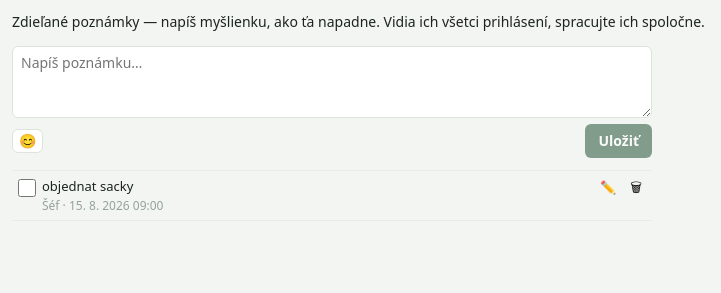
klik na text otvorí úpravu, Enter uloží orezaný text cez updateNoteText a znova načíta zoznam
Click the text with test id "poznamka-body-n-1" at (88, 186), box [42, 177, 133, 195]
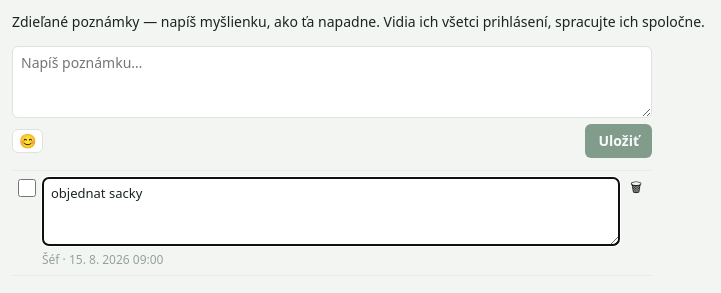
Now the text box with test id "poznamka-edit-input-n-1" holds "objednat sacky"
Replace the text in the text box with test id "poznamka-edit-input-n-1" with "  Objednať sáčky  " at (331, 211), box [42, 177, 620, 246]
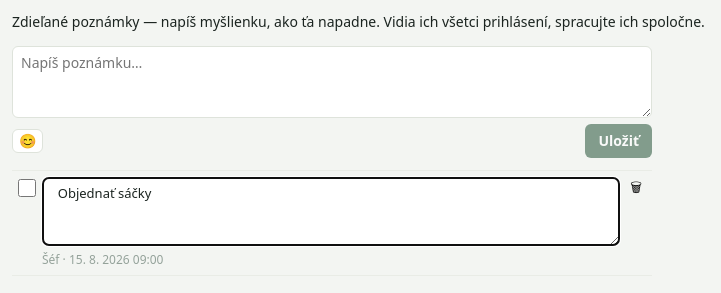
Press Enter in the text box with test id "poznamka-edit-input-n-1", box [42, 177, 620, 246]
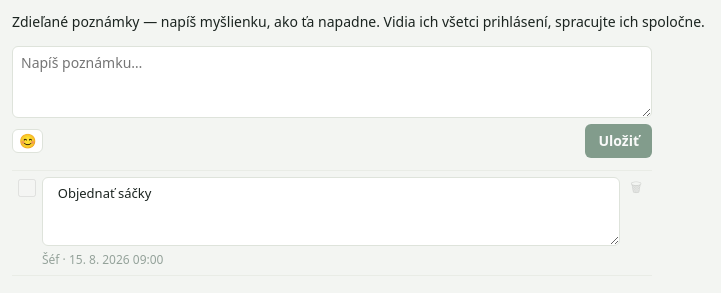
Prehliadač po Enter vystrelí blur (pole sa počas zápisu vypne) — nesmie uložiť druhýkrát.
Leave the text box with test id "poznamka-edit-input-n-1", box [42, 177, 620, 246]
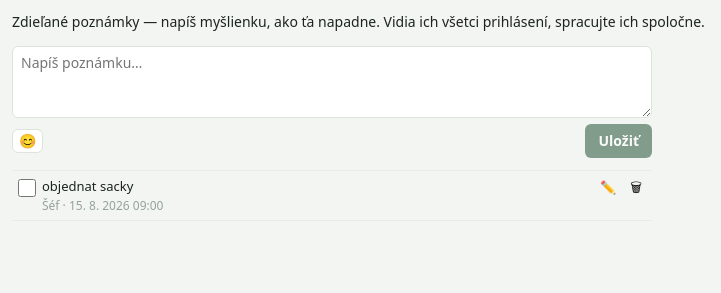
Now the text box with test id "poznamka-edit-input-n-1" is gone
